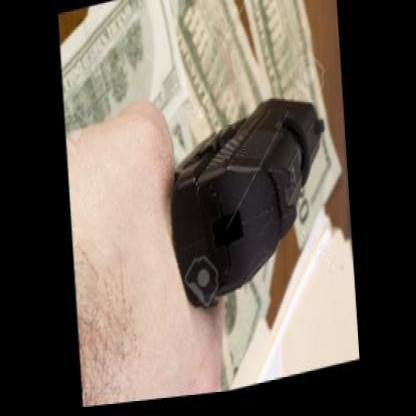pistol: (162, 85, 339, 317)
